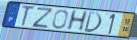1: (108, 13, 116, 35)
D: (83, 11, 103, 34)
H: (65, 10, 89, 32)
O: (51, 9, 69, 30)
T: (21, 5, 36, 28)
Z: (31, 6, 55, 30)
